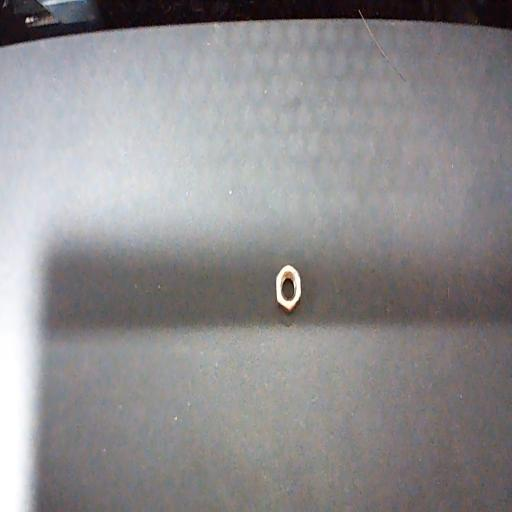nut: (275, 264, 301, 312)
